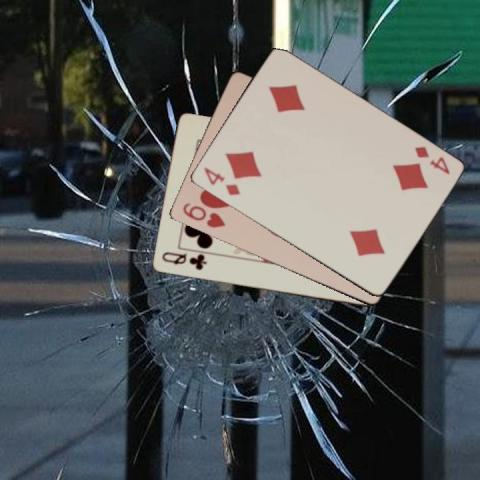4d: (200, 164, 241, 197), (411, 143, 451, 176)
6h: (179, 200, 227, 230)
Qc: (159, 249, 208, 272)
